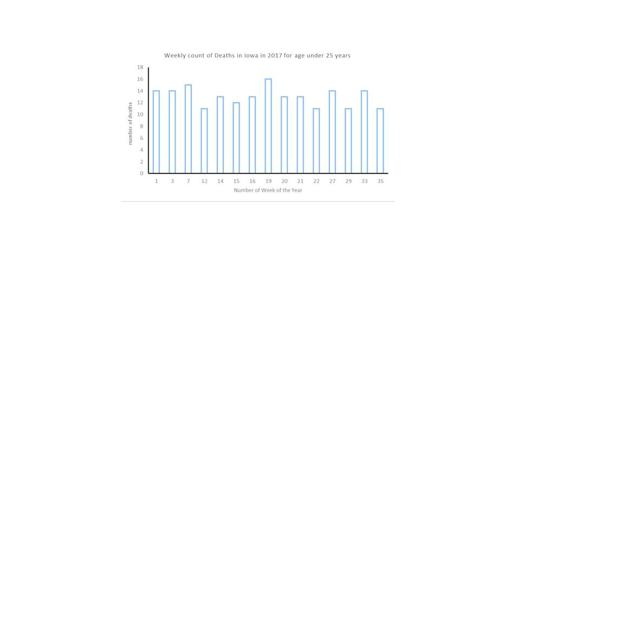Graph: (121, 47, 395, 202)
